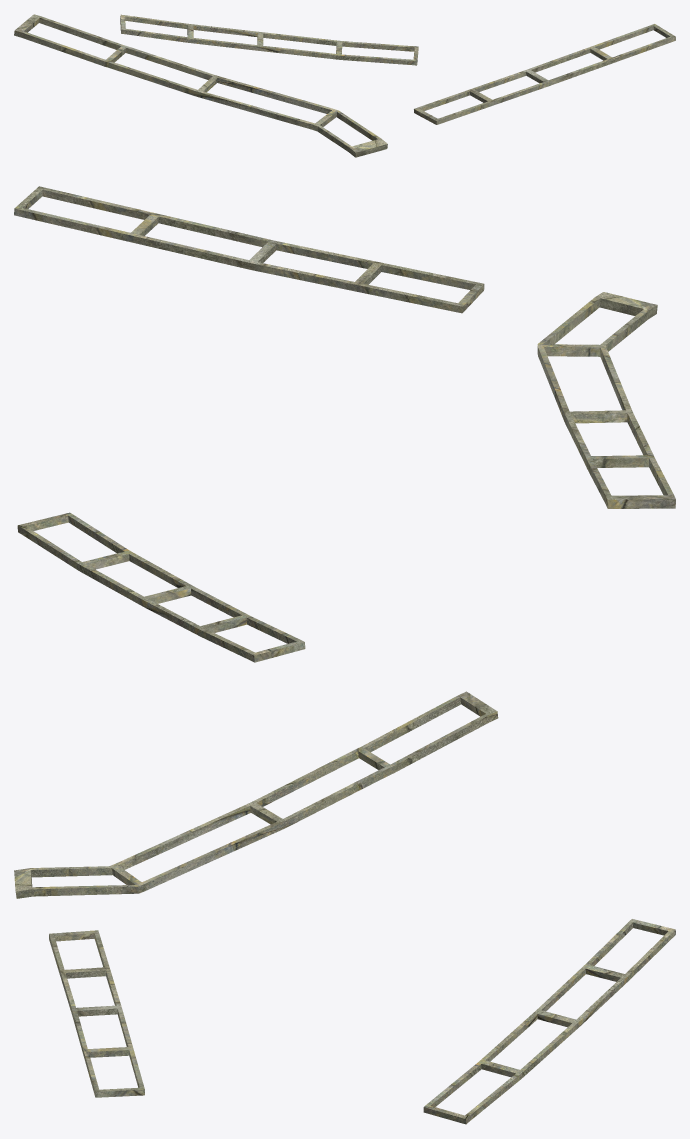
File: SM_Chateaux_01_metal_00.fbx
The picture shows the model from 3 angles, top to bottom: view 1: azimuth 30°, elevation 25°; view 2: azimuth 150°, elevation 25°; view 3: azimuth 270°, elevation 25°; orthographic projection. The views are drawn at different scales.
Visible parts, largest first — view 1: SM_Chateaux_01_metal_00; view 2: SM_Chateaux_01_metal_00; view 3: SM_Chateaux_01_metal_00.
Boxes of the visible parts, x1,y1,x2,y2 form: SM_Chateaux_01_metal_00: (14, 14, 675, 157); SM_Chateaux_01_metal_00: (14, 186, 675, 662); SM_Chateaux_01_metal_00: (14, 691, 675, 1124).
Size of the model in its own units: 3682 by 798 by 2925.
